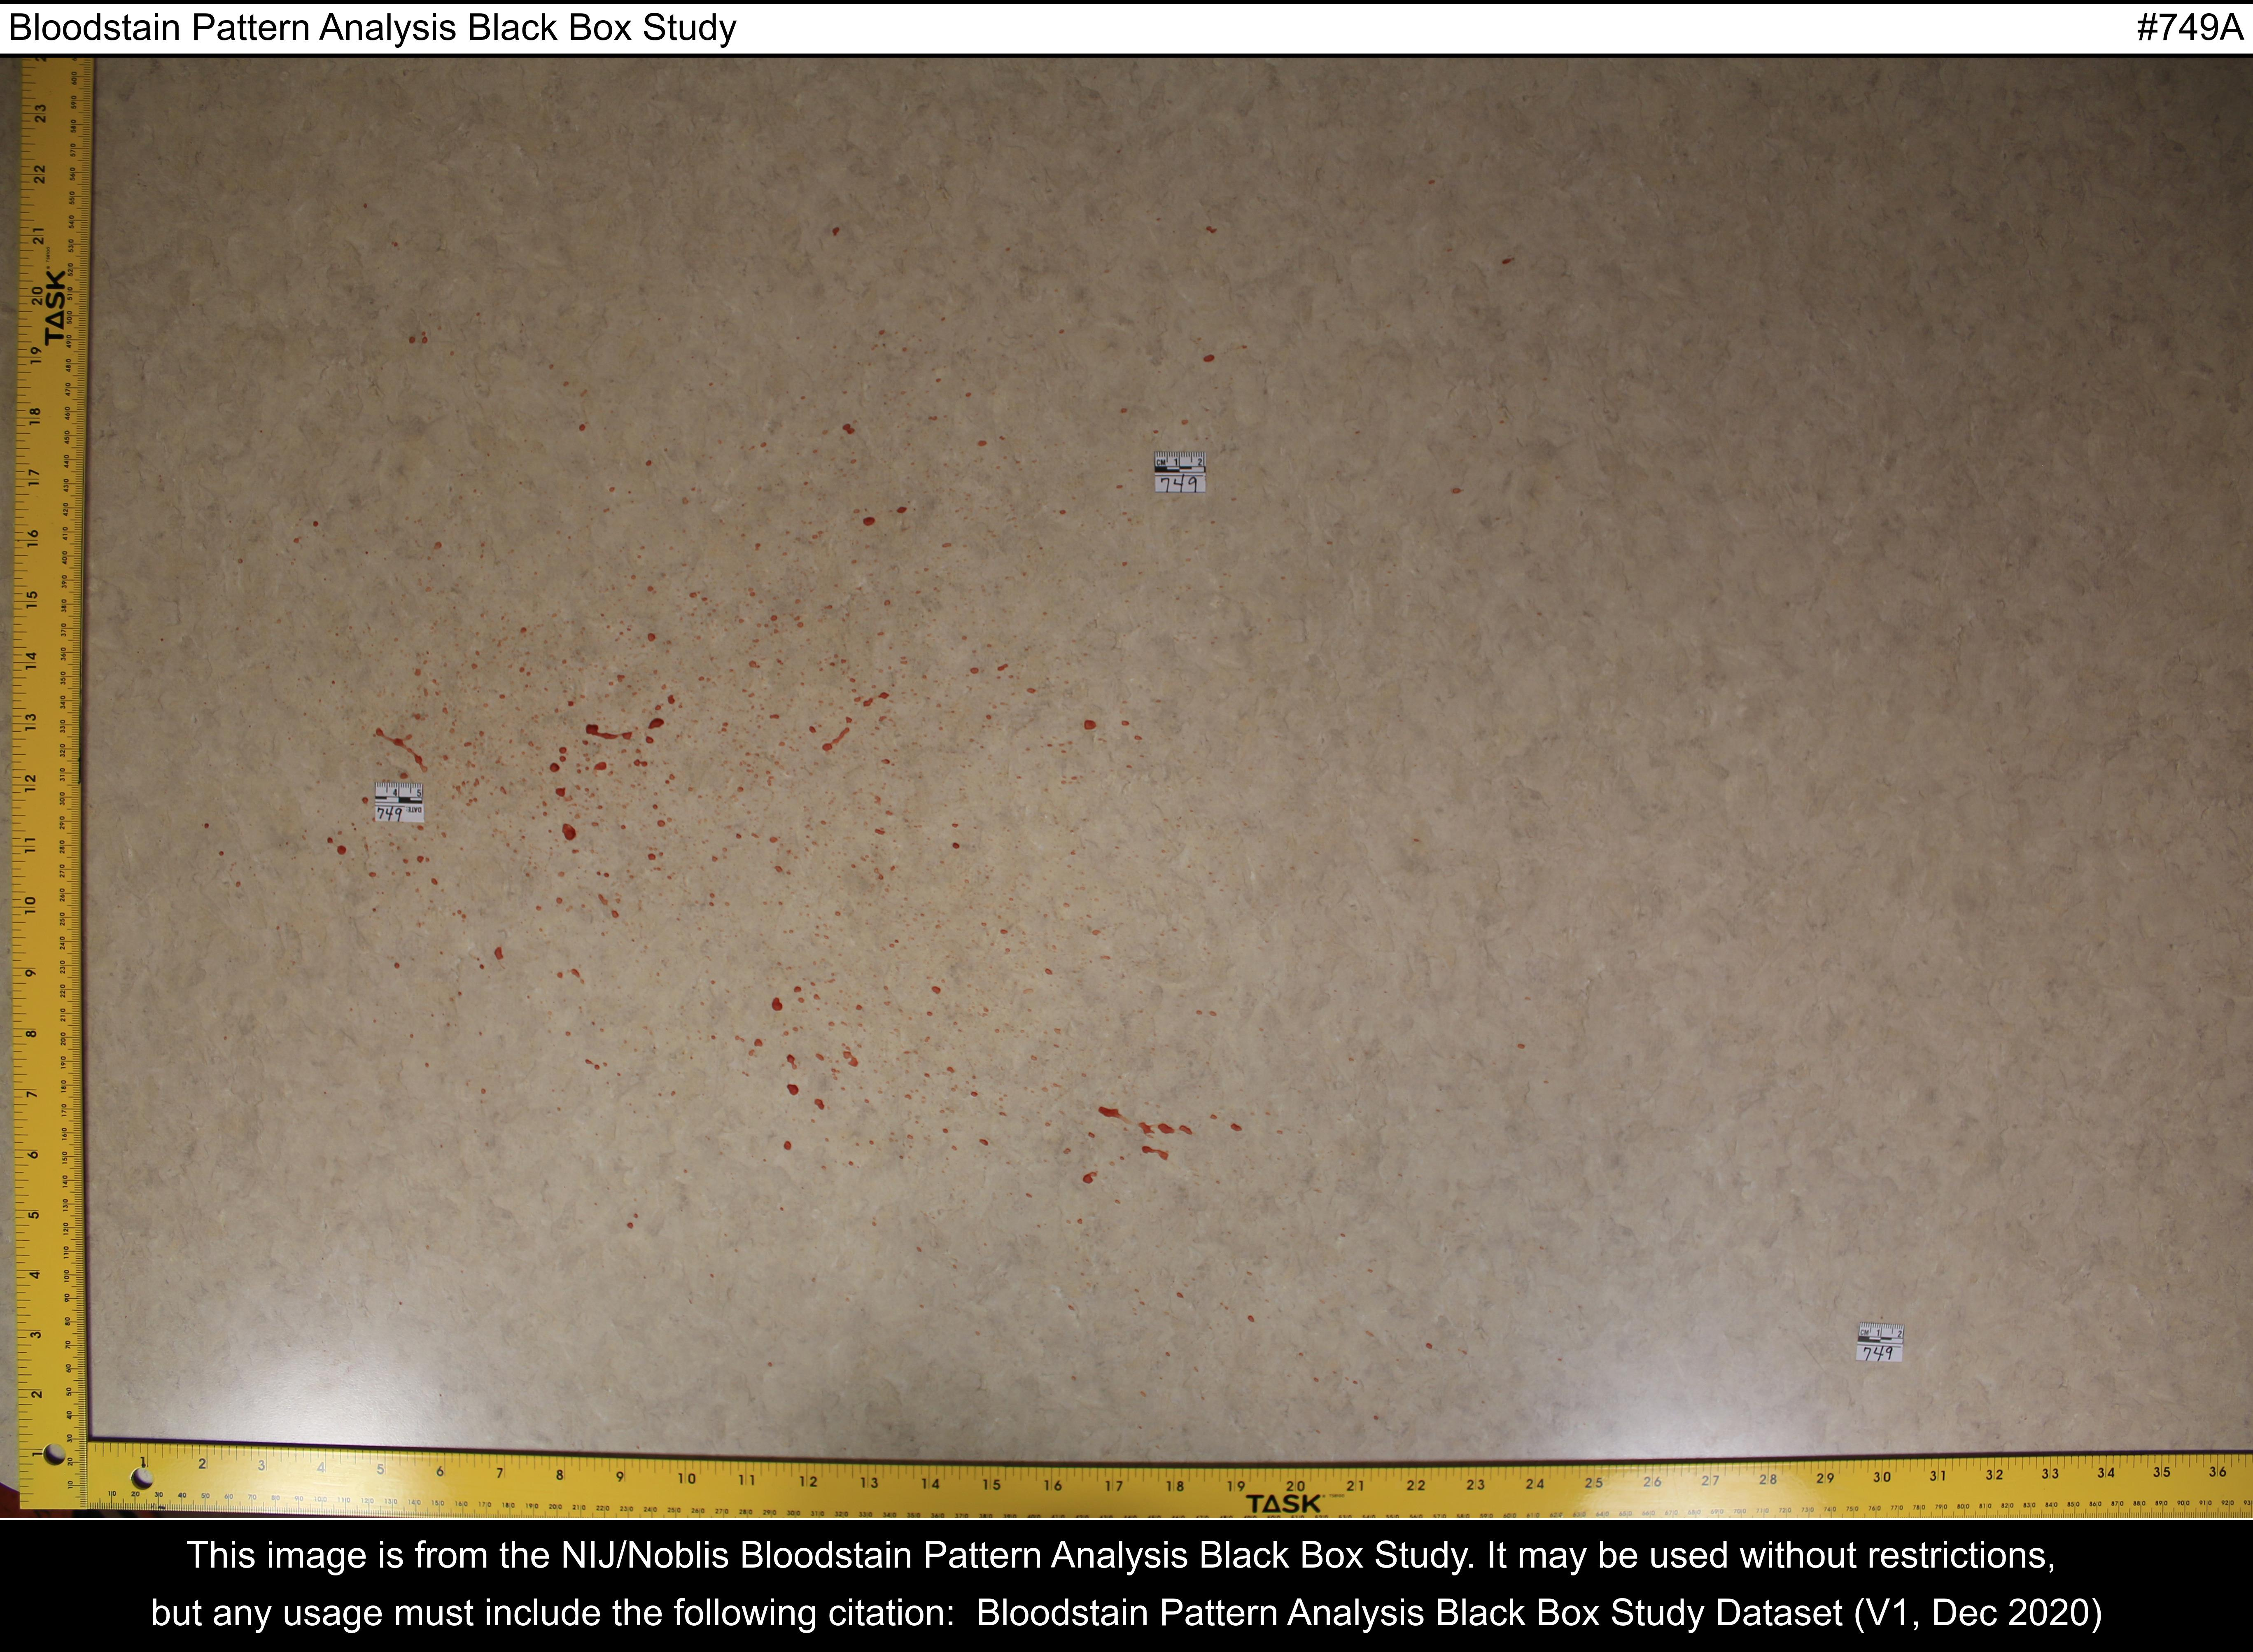Impact: (420, 611, 778, 908), (1016, 1032, 1261, 1211), (806, 446, 915, 810), (714, 959, 876, 1178), (969, 619, 1163, 793)
